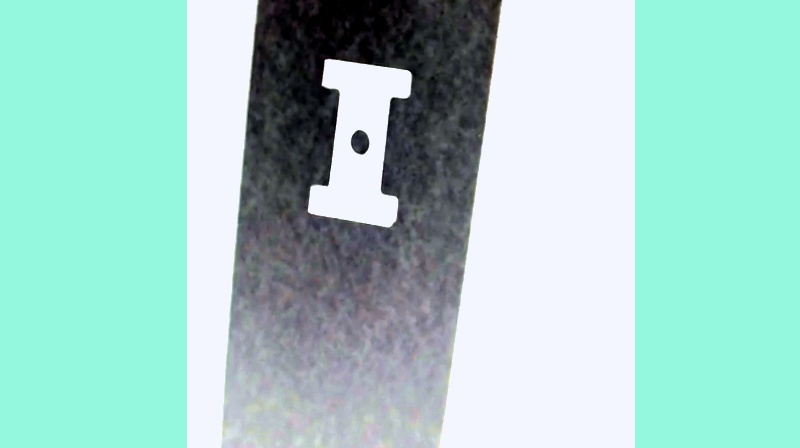O002: (305, 54, 415, 230)
